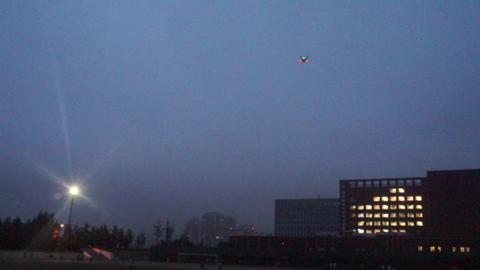UAV: (299, 56, 309, 63)
